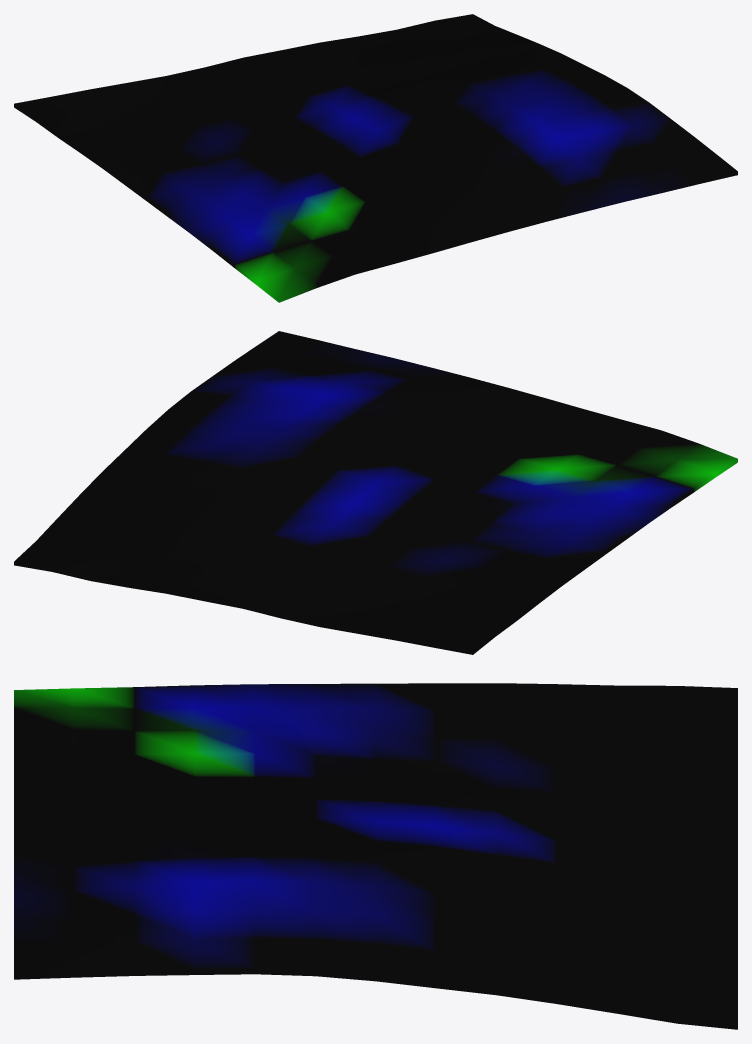
The model's file is coast_6_1.glb.
3 views of the same model, one above another, from view 1: azimuth 30°, elevation 25°; view 2: azimuth 150°, elevation 25°; view 3: azimuth 270°, elevation 25° (orthographic). The views are drawn at different scales.
Visible parts, largest first — view 1: terrain; view 2: terrain; view 3: terrain.
Part boxes in pixels (<box>): terrain: <box>14,14,737,302</box>; terrain: <box>14,331,737,654</box>; terrain: <box>14,683,737,1029</box>.
Size of the model in its own units: 192 by 21.07 by 192.
